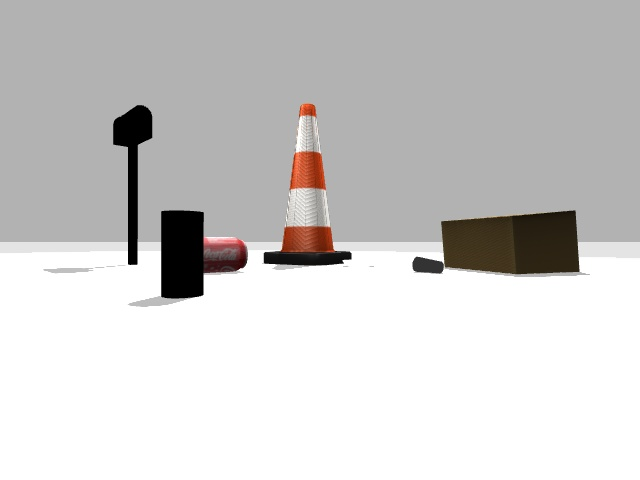boite_lettres: (113, 105, 152, 264)
bouteille_verre: (161, 210, 203, 298)
canette: (203, 237, 247, 272)
carton: (441, 211, 579, 273)
cone_chantier: (264, 104, 350, 264)
gobelet: (412, 257, 444, 273)
